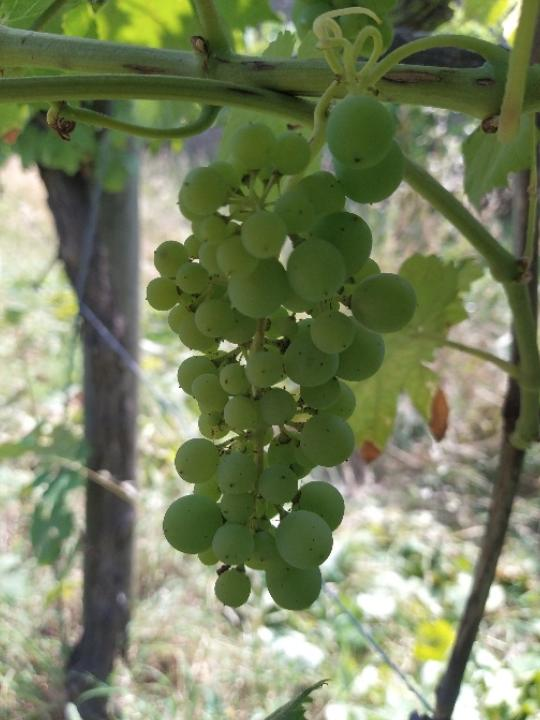grape: (142, 84, 420, 614)
